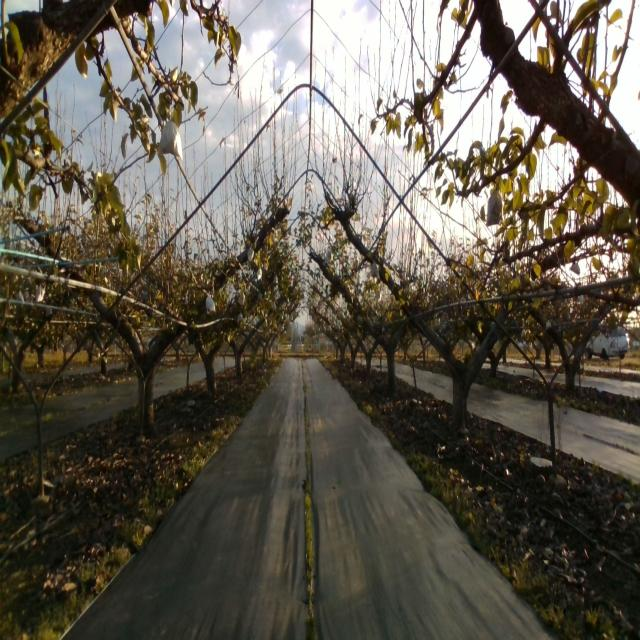pearbags: (157, 109, 180, 159), (486, 178, 503, 227), (368, 259, 380, 279), (206, 294, 217, 314)
